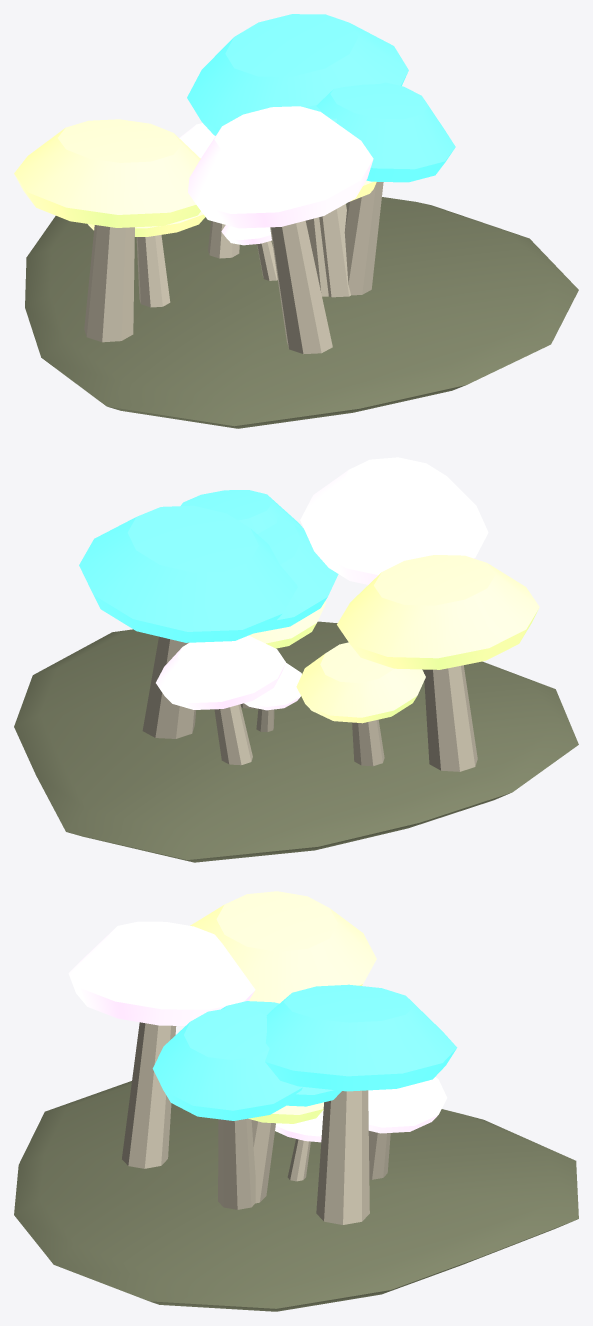
The model's file is deco_mushrooms_glow.fbx.
The picture shows the model from 3 angles, top to bottom: view 1: azimuth 30°, elevation 25°; view 2: azimuth 150°, elevation 25°; view 3: azimuth 270°, elevation 25°; orthographic projection. The views are drawn at different scales.
Visible parts, largest first — view 1: Mushrooms_Glow_Caps, Mushrooms_Glow_Moss; view 2: Mushrooms_Glow_Caps, Mushrooms_Glow_Moss; view 3: Mushrooms_Glow_Caps, Mushrooms_Glow_Moss.
Boxes of the visible parts, left/top/right/bottom form: Mushrooms_Glow_Caps: left=14, top=14, right=455, bottom=354; Mushrooms_Glow_Moss: left=25, top=197, right=578, bottom=428; Mushrooms_Glow_Caps: left=79, top=457, right=539, bottom=771; Mushrooms_Glow_Moss: left=14, top=621, right=578, bottom=862; Mushrooms_Glow_Caps: left=68, top=891, right=457, bottom=1224; Mushrooms_Glow_Moss: left=14, top=1081, right=578, bottom=1311.
Size of the model in its own units: 124 by 58.06 by 123.
